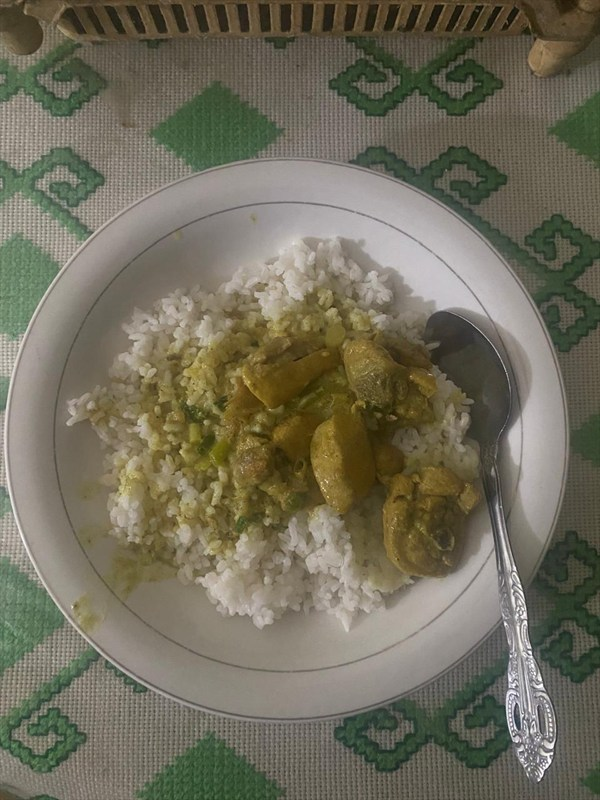Soto Ayam: (95, 179, 550, 695)
